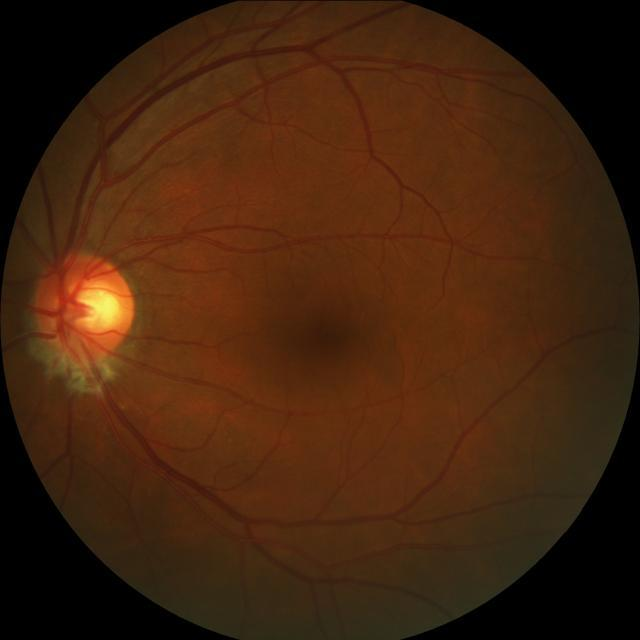OC: (73, 287, 119, 333)
OD: (30, 250, 133, 364)
